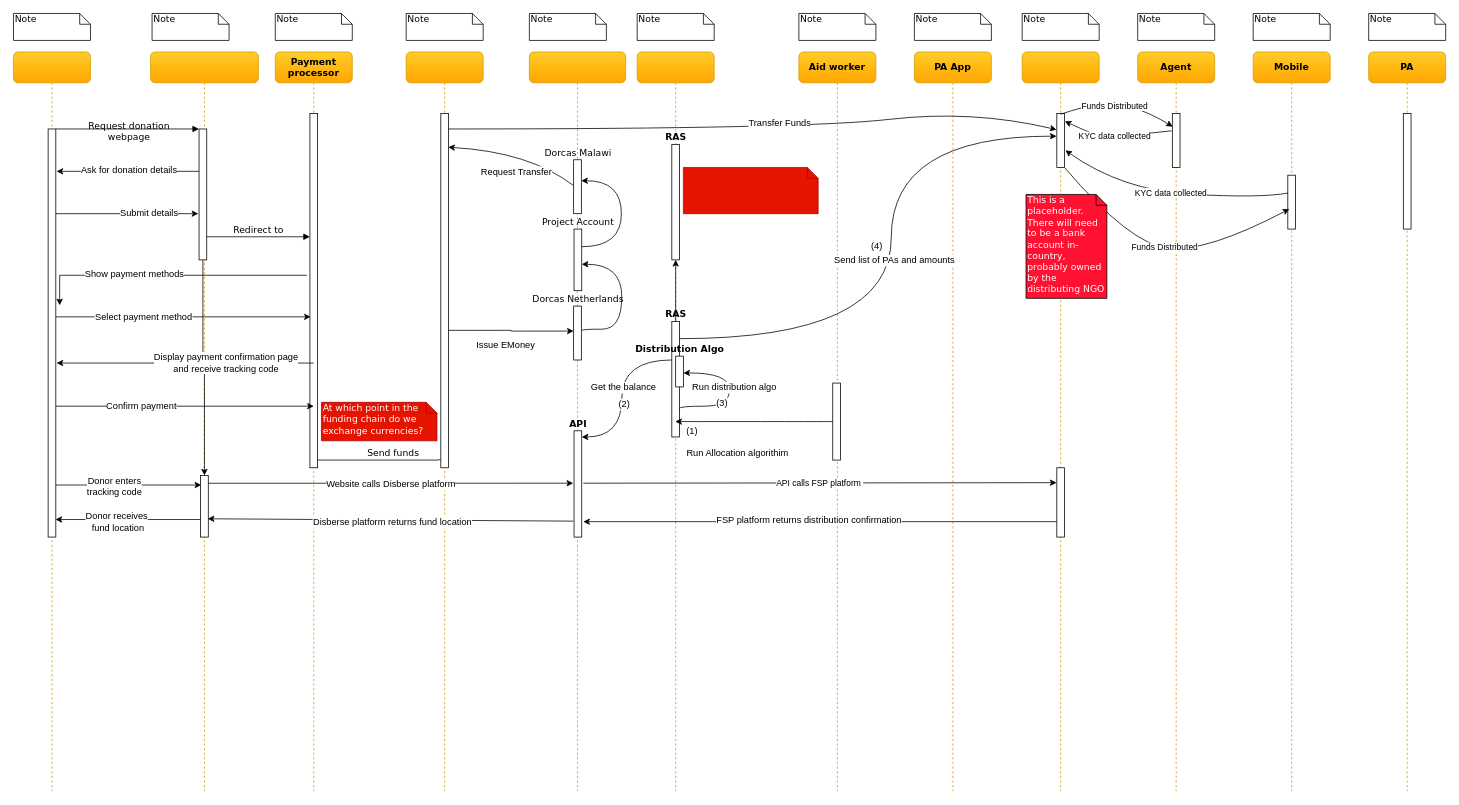
The diagram is 1459 pixels wide and 805 high, and some of its shapes have lost their labels. The shapes that lost their labels are listed below. From the top down, each one's box as (x1, y1, x2, y2) in pixels, then its label:
(683, 167, 818, 214): Define users across disberse and 121. Disberse needs to KYC every user.
(13, 51, 90, 791): Donor
(150, 51, 258, 791): Program/HO Donation interface
(405, 51, 483, 791): Disberse Segregated Account
(529, 51, 626, 791): Disberse Platform
(636, 51, 714, 791): HO Portal
(1021, 51, 1099, 791): FSP
